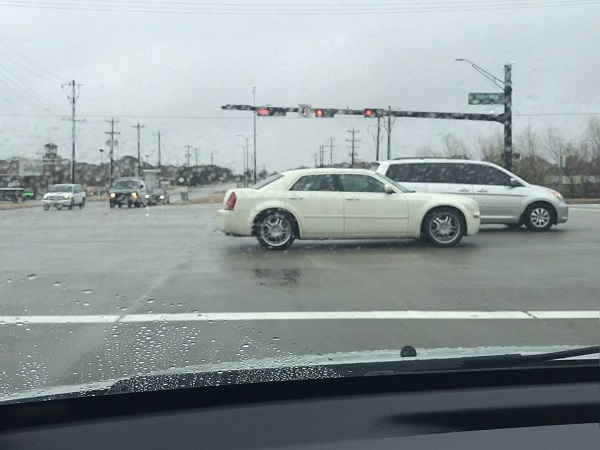car: (217, 169, 481, 251), (368, 157, 569, 232), (42, 182, 86, 210), (110, 178, 143, 206)
